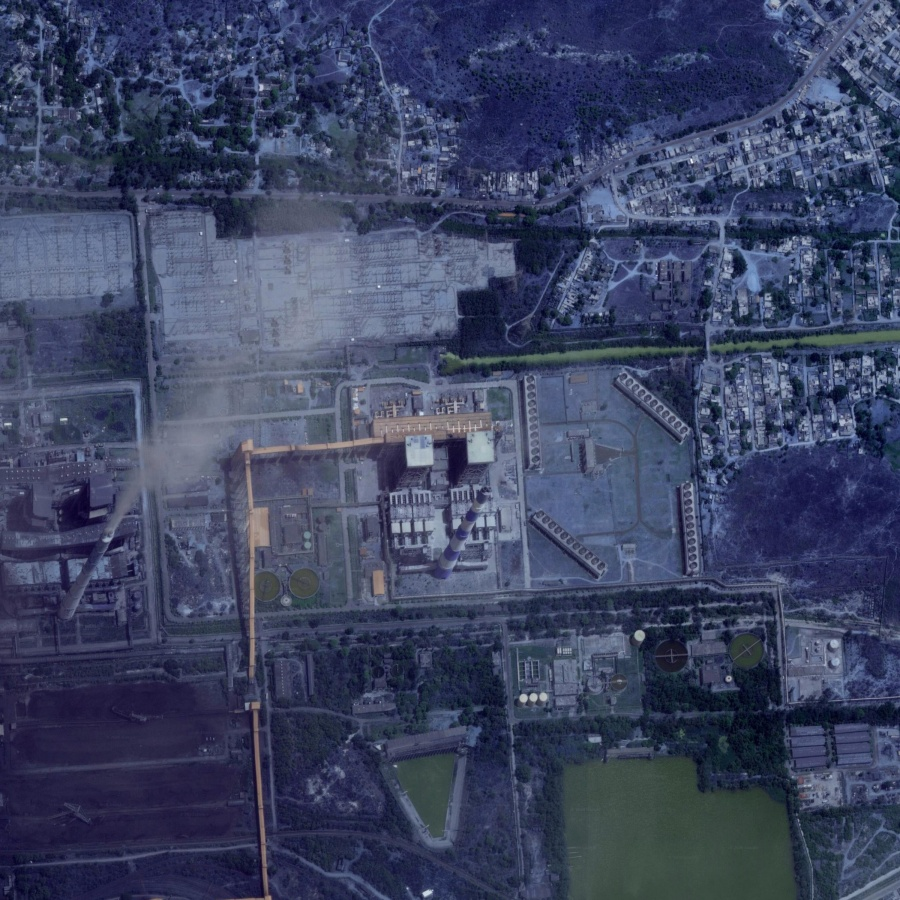PowerPlant: (382, 413, 506, 593)
